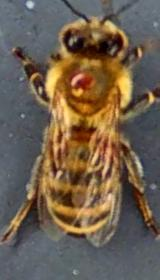varroa_mite: (61, 63, 106, 96)
